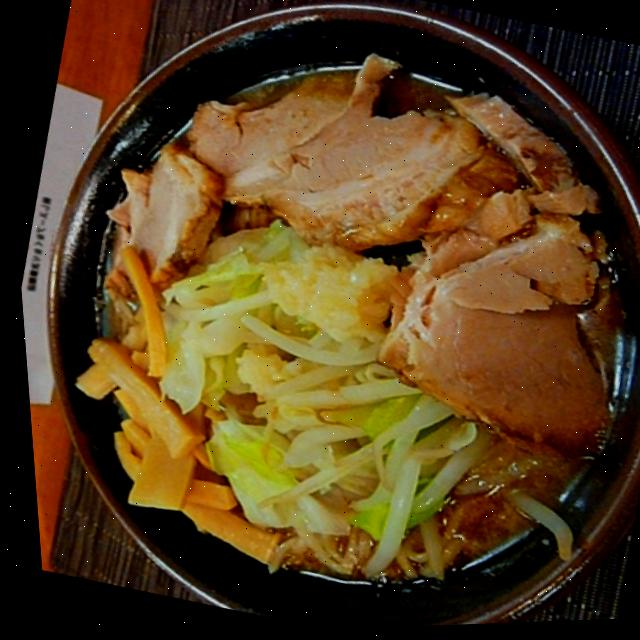面条主食: (16, 0, 640, 640)
